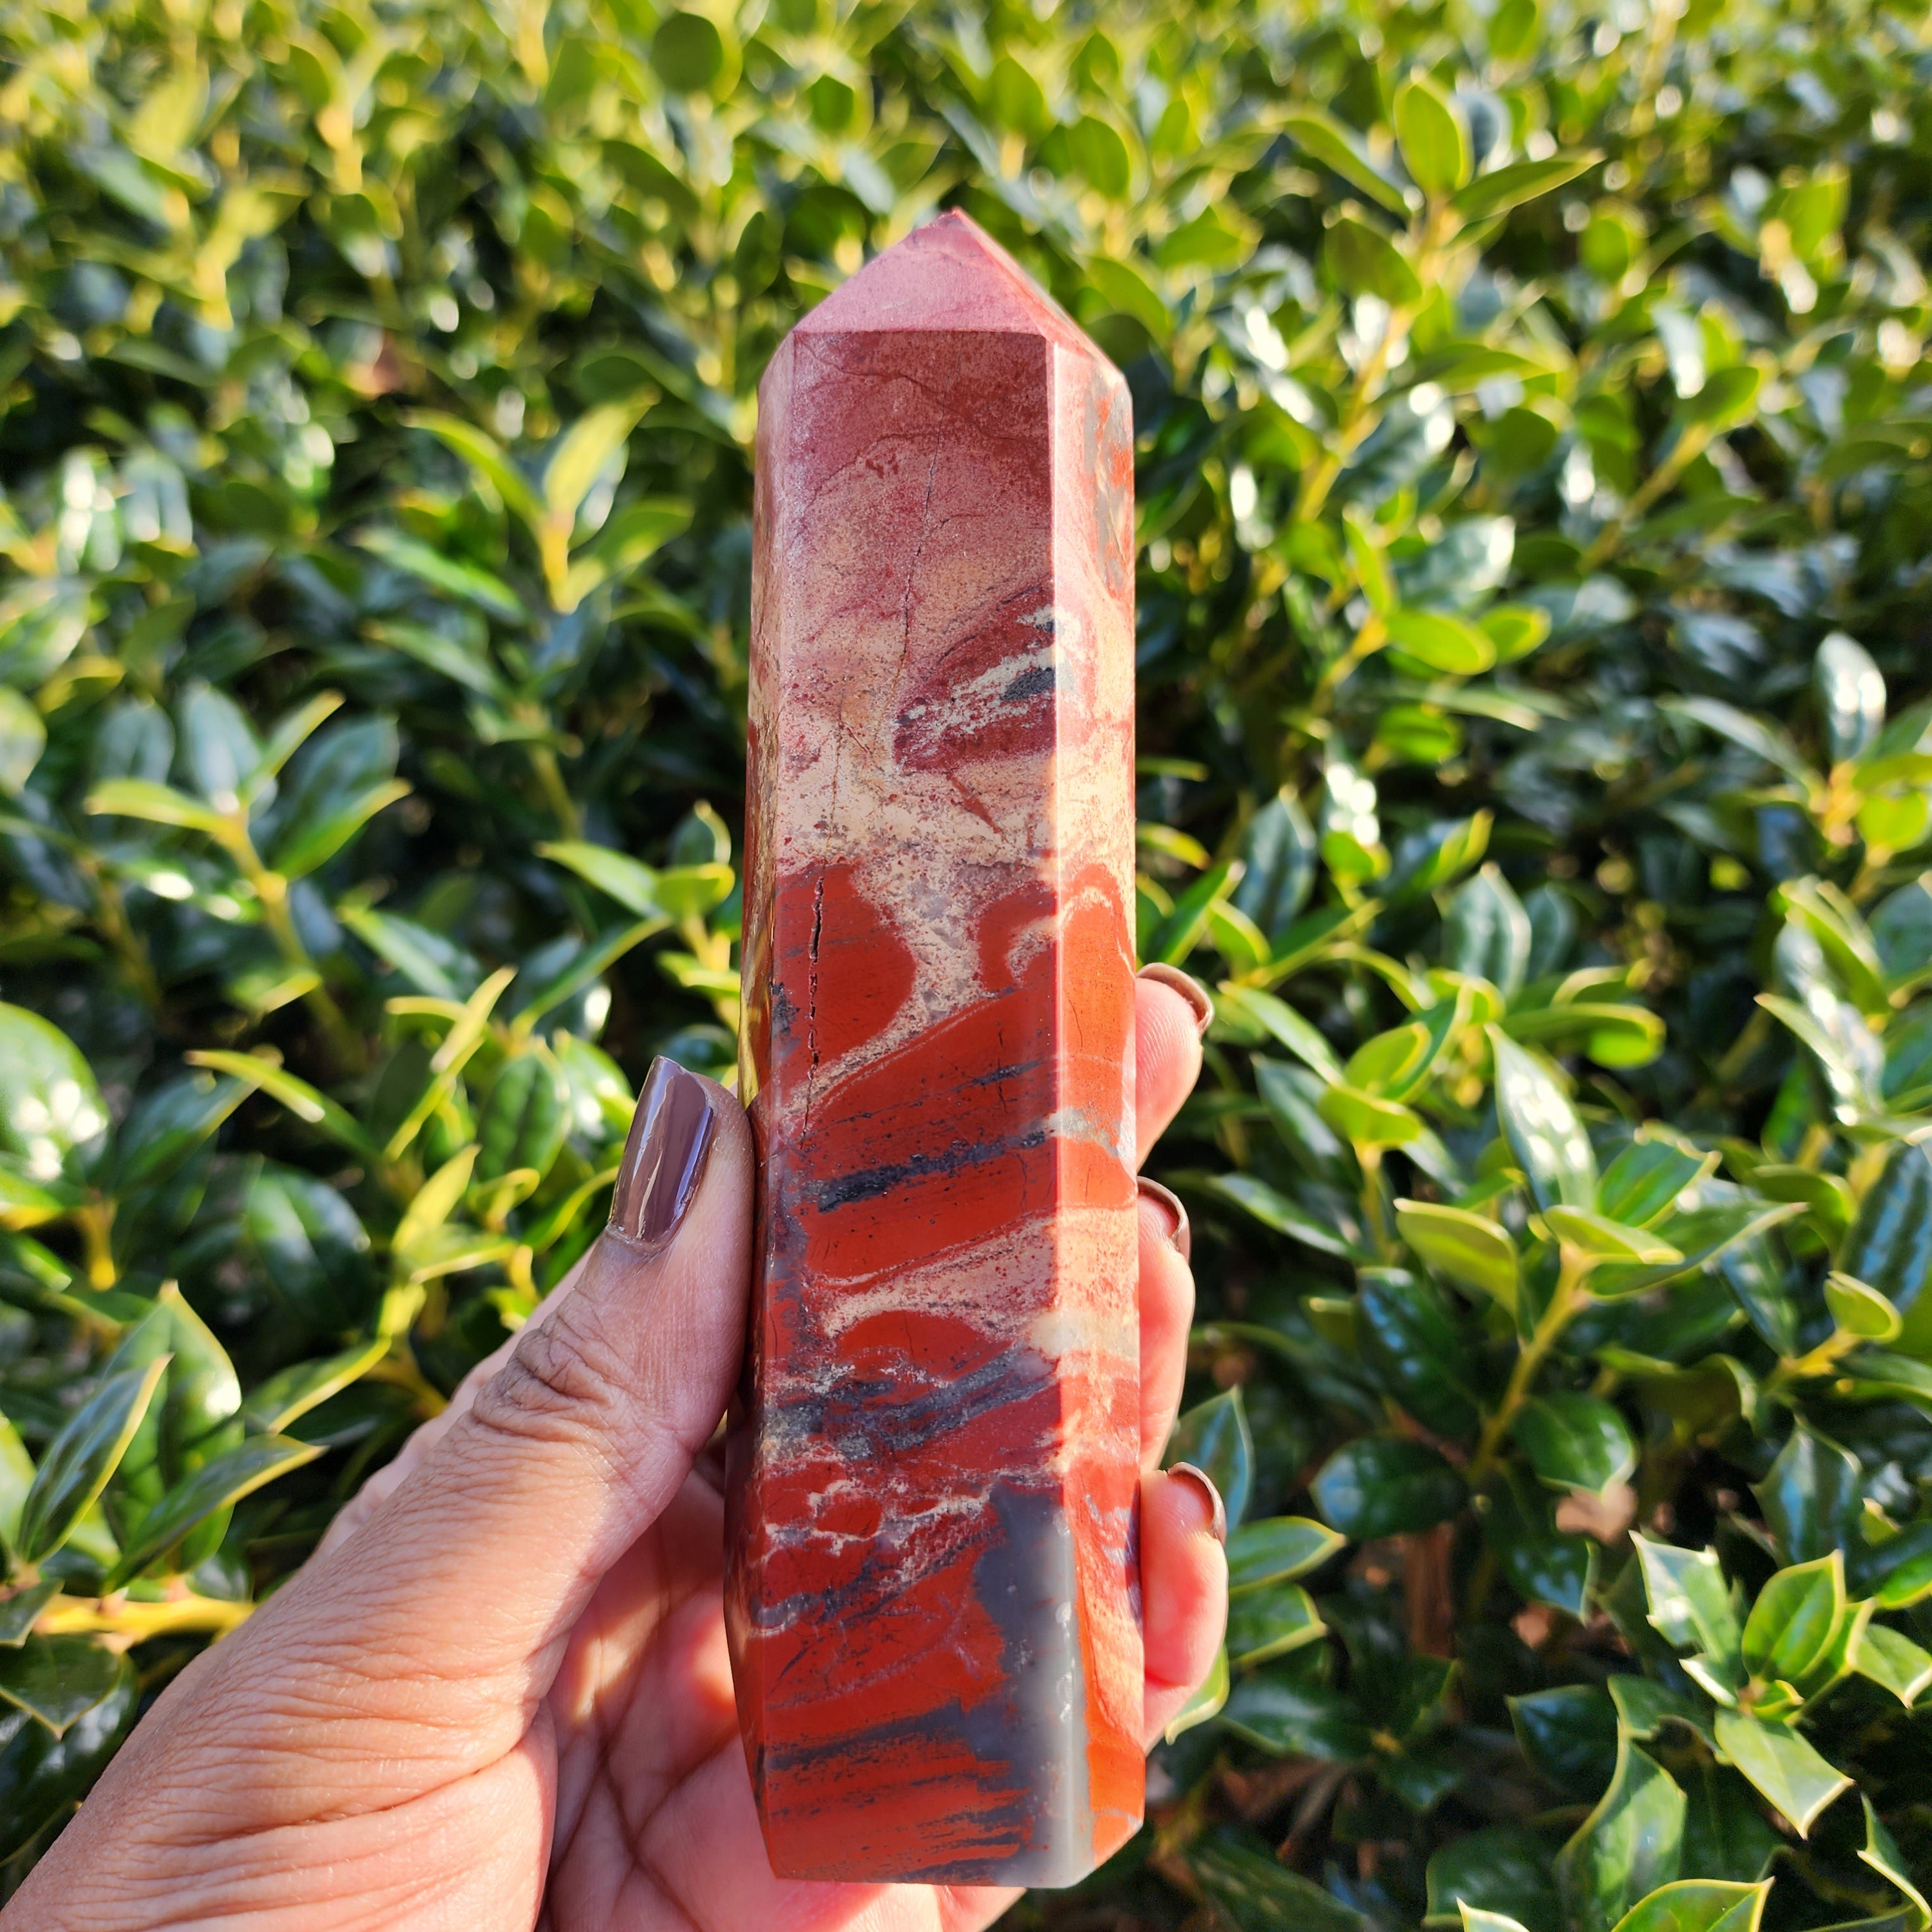Red_Jasper: (748, 175, 1145, 1888)
